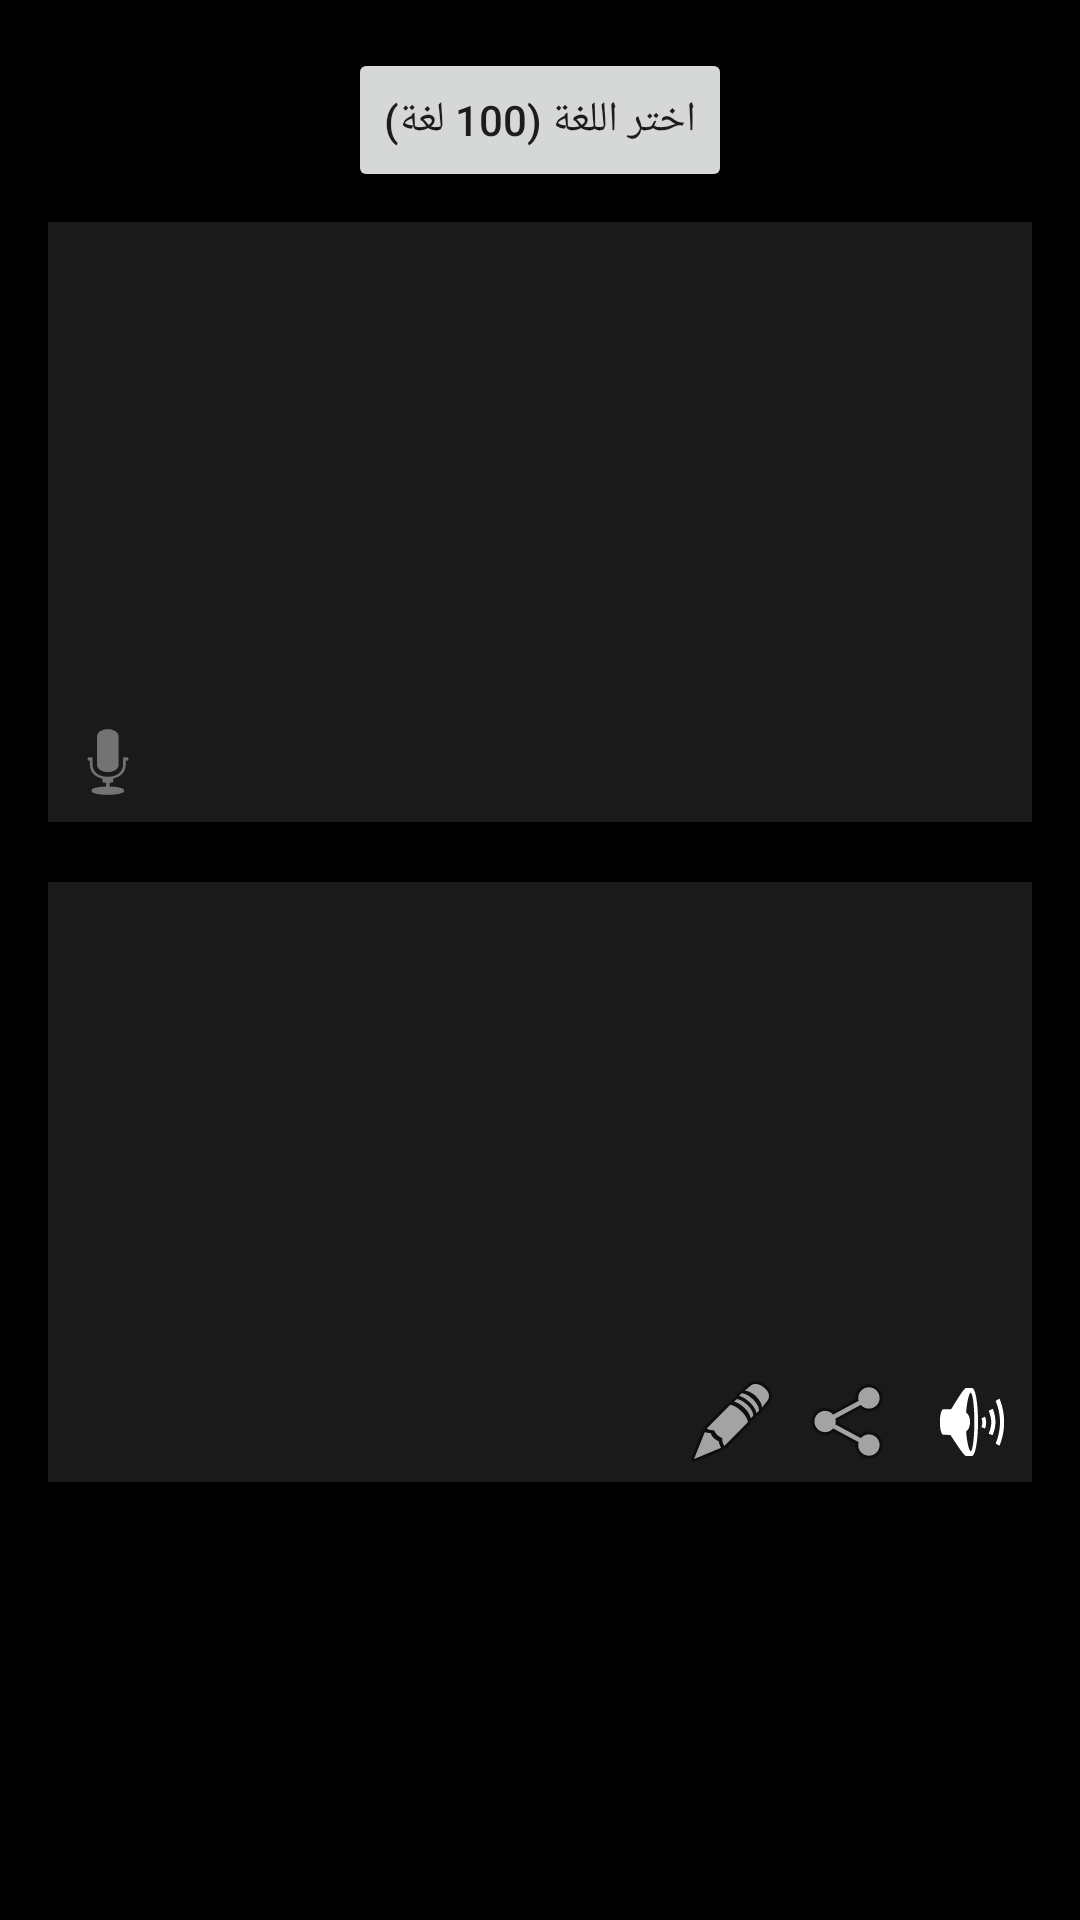

Named icons in this screenshot (1080 x 1920) and their bounding boxes, BBox(x1, y1, x2, y2):
edit: BBox(694, 1384, 769, 1459)
lock silent mode off: BBox(940, 1388, 1004, 1456)
share: BBox(814, 1387, 880, 1456)
speak now: BBox(87, 729, 129, 795)
